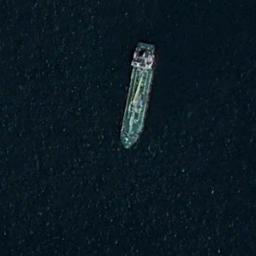boat: (118, 40, 156, 150)
